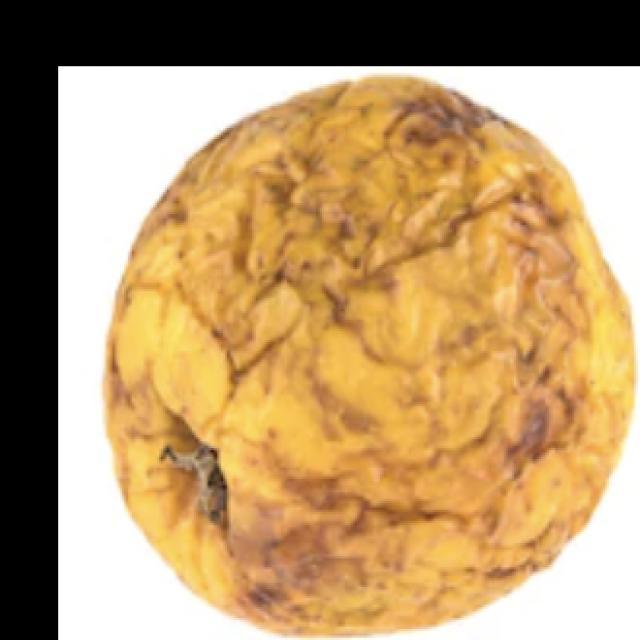Rotten: (113, 85, 637, 602)
